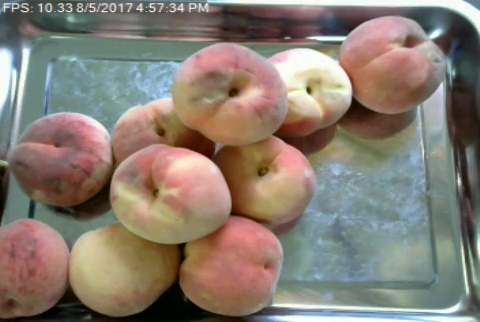Peach: (172, 41, 289, 145), (111, 145, 232, 243), (339, 14, 445, 115), (67, 220, 177, 315), (6, 111, 114, 206), (178, 217, 281, 315), (213, 133, 313, 225), (265, 45, 352, 136), (0, 220, 69, 316)
